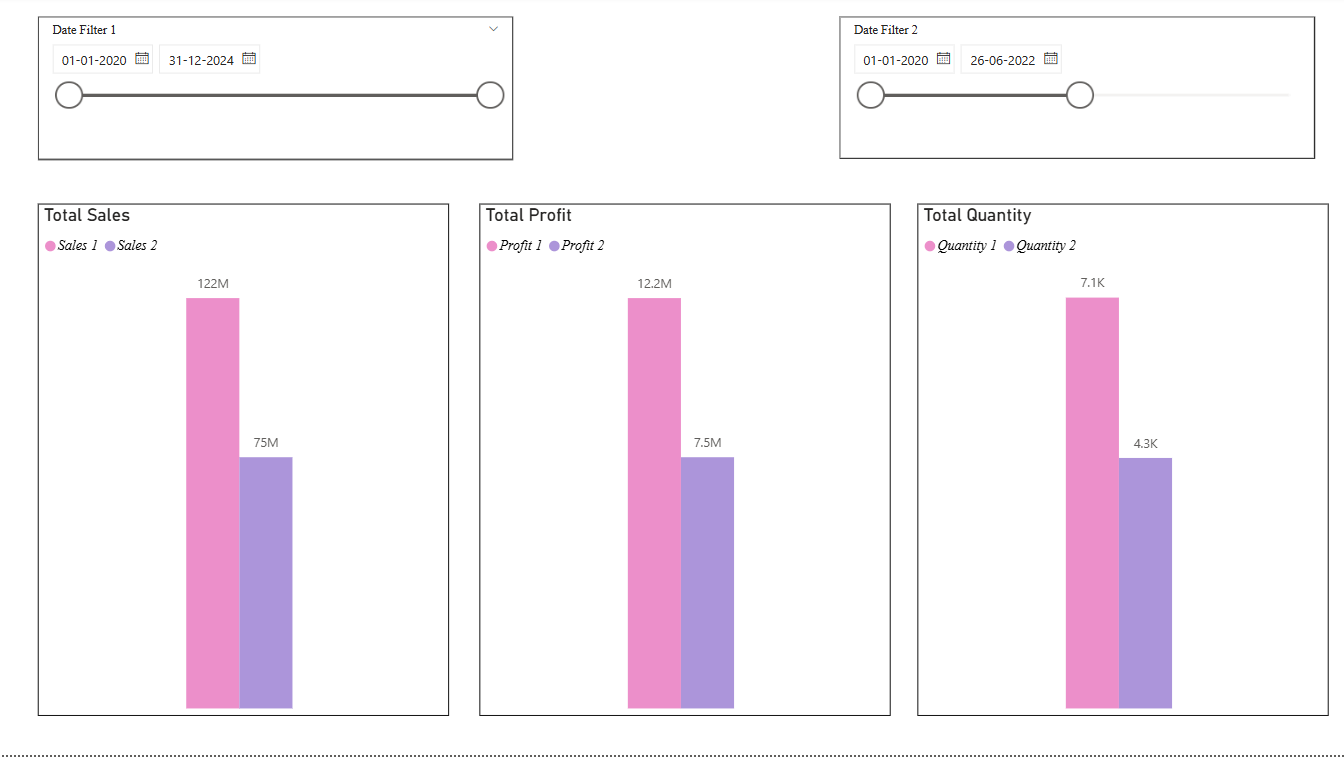

The page's visual inventory and layout, read from the dashboard file:
{"tool":"powerbi","page":{"name":"Req 4 (A)","canvas":[1280,720],"ordinal":2},"visuals":[{"type":"slicer","fields":{"Values":["Date Table 1.Date"]},"box":[38.7,19.3,450.6,135.4],"z":0},{"type":"slicer","fields":{"Values":["Date Table 2.Date"]},"box":[799.1,19.5,450.6,135.3],"z":1000},{"type":"clusteredColumnChart","title":"Total Sales","fields":{"Y":["Sum(Facts table.Net Sales)","Date Table 1.Sum of Net Sales"]},"box":[39,197.2,389.8,486.1],"z":2000},{"type":"clusteredColumnChart","title":"Total Profit","fields":{"Y":["Sum(Facts table.Profit)","Measures Table.Total Profit"]},"box":[457.4,197.2,389.8,486.1],"z":3000},{"type":"clusteredColumnChart","title":"Total Quantity","fields":{"Y":["Sum(Facts table.Units Sold)","Measures Table.Total quantity"]},"box":[872.4,197.2,389.8,486.1],"z":4000}]}

Visuals, with their boxes in screenshot pixels (x1, y1, x2, y2), scaled from the page's 1280x720 canvas onto the 1344x757 screenshot:
slicer - Date Table 1.Date: box(41, 20, 514, 163)
slicer - Date Table 2.Date: box(839, 21, 1312, 163)
"Total Sales" clusteredColumnChart: box(41, 207, 450, 718)
"Total Profit" clusteredColumnChart: box(480, 207, 890, 718)
"Total Quantity" clusteredColumnChart: box(916, 207, 1325, 718)
